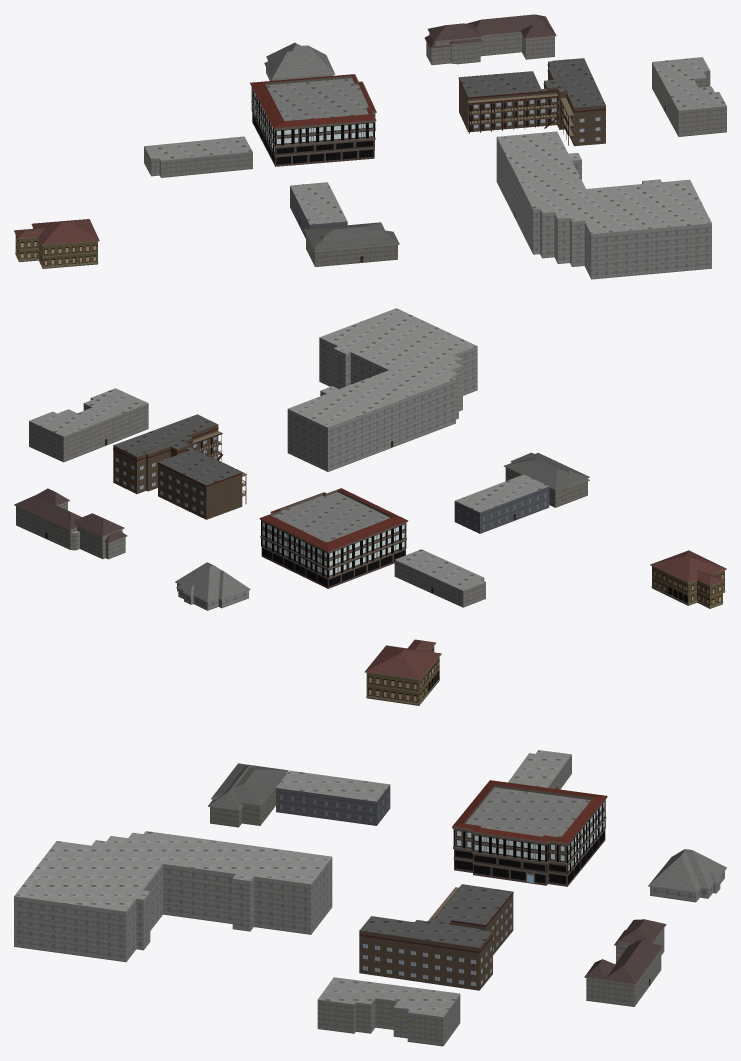
3 views of the same model, one above another, from view 1: azimuth 30°, elevation 25°; view 2: azimuth 150°, elevation 25°; view 3: azimuth 270°, elevation 25° (orthographic). The views are drawn at different scales.
Parts seen in each view (by area): view 1: opaque (×10), glass (×2); view 2: opaque (×10), glass (×2); view 3: opaque (×10), glass (×2).
Part boxes in pixels (left/top/right/bottom): opaque (×10): left=14, top=14, right=726, bottom=279; glass (×2): left=16, top=37, right=722, bottom=275; opaque (×10): left=14, top=308, right=726, bottom=610; glass (×2): left=18, top=343, right=723, bottom=606; opaque (×10): left=14, top=639, right=726, bottom=1046; glass (×2): left=18, top=650, right=723, bottom=1042.
Bounding box in the file's own units: 257 × 15.94 × 204.
27 materials, 27 textured.
